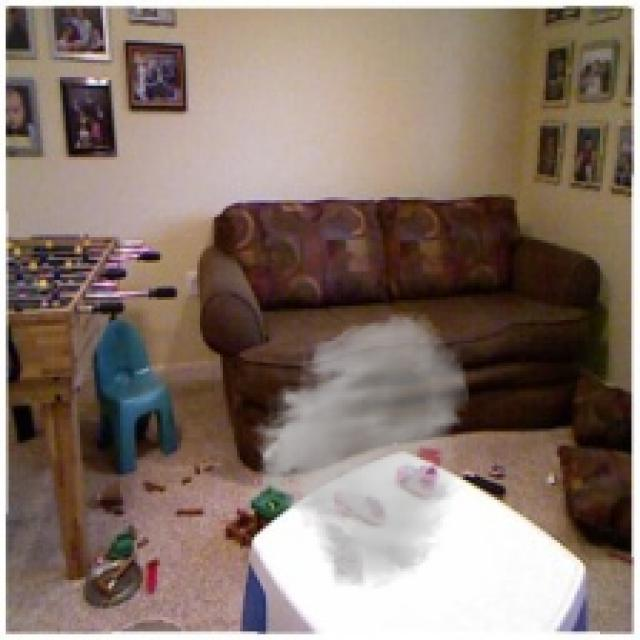smoke: (246, 308, 471, 592)
